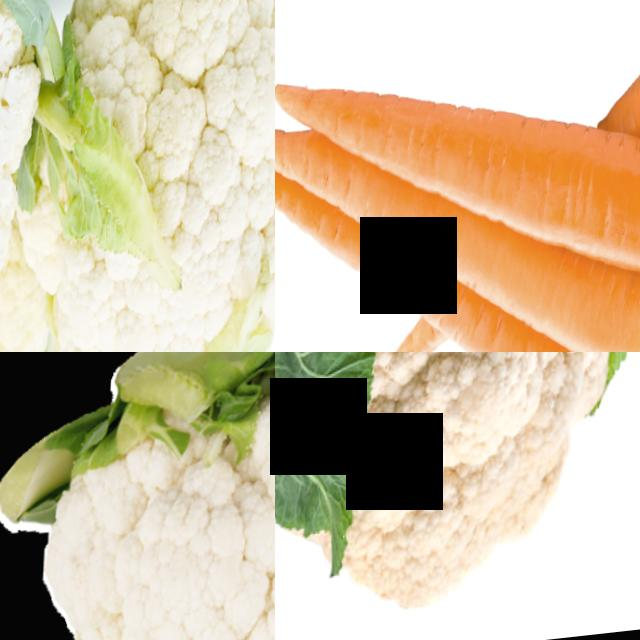carrot: (343, 74, 640, 250), (339, 215, 640, 352)
cauliflower: (275, 352, 640, 640), (5, 0, 275, 352), (0, 352, 275, 640), (0, 0, 69, 352)
